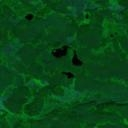alloviz: (50, 44, 71, 58), (70, 50, 83, 66), (60, 70, 75, 79), (24, 13, 34, 20)
